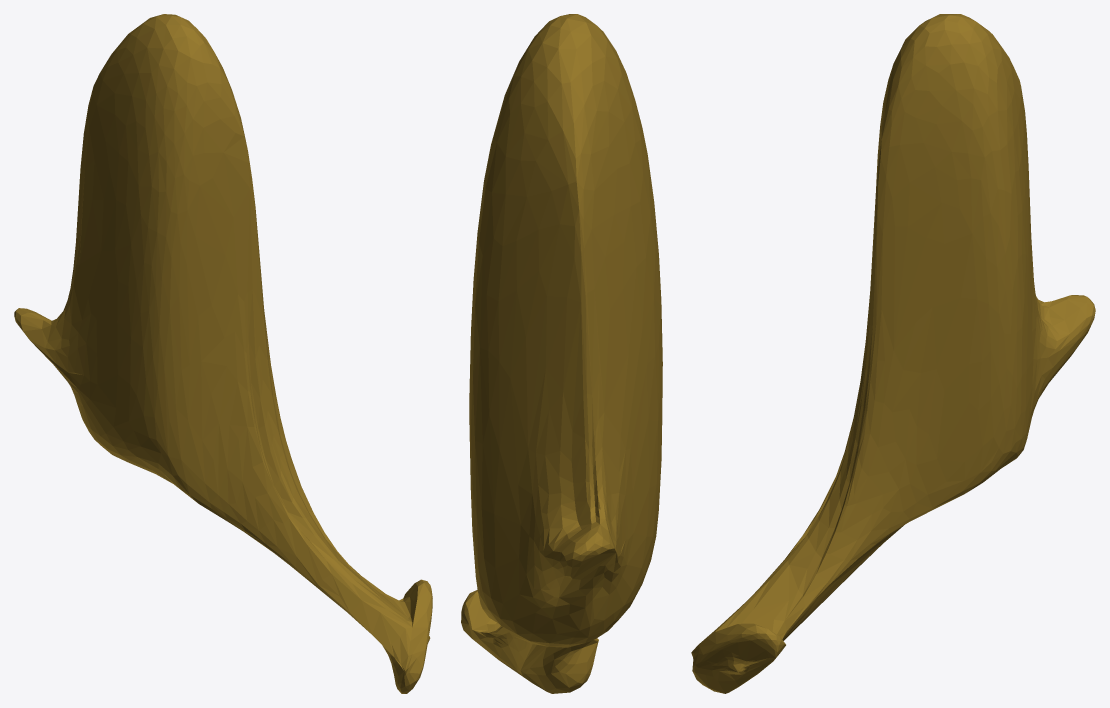
The picture shows the model from 3 angles, left to right: view 1: azimuth 30°, elevation 25°; view 2: azimuth 150°, elevation 25°; view 3: azimuth 270°, elevation 25°; orthographic projection. The views are drawn at different scales.
Parts seen in each view (by area): view 1: 498_Cube.2017; view 2: 498_Cube.2017; view 3: 498_Cube.2017.
Part boxes in pixels (x1,y1,x2,y2): 498_Cube.2017: (14,14,432,693); 498_Cube.2017: (461,14,662,693); 498_Cube.2017: (691,14,1095,693).
Bounding box in the file's own units: 6.56 × 15.03 × 8.9.
